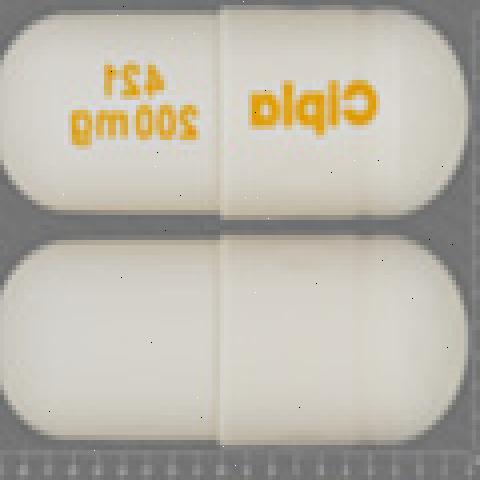Pill: (0, 219, 473, 454), (3, 7, 474, 228)
